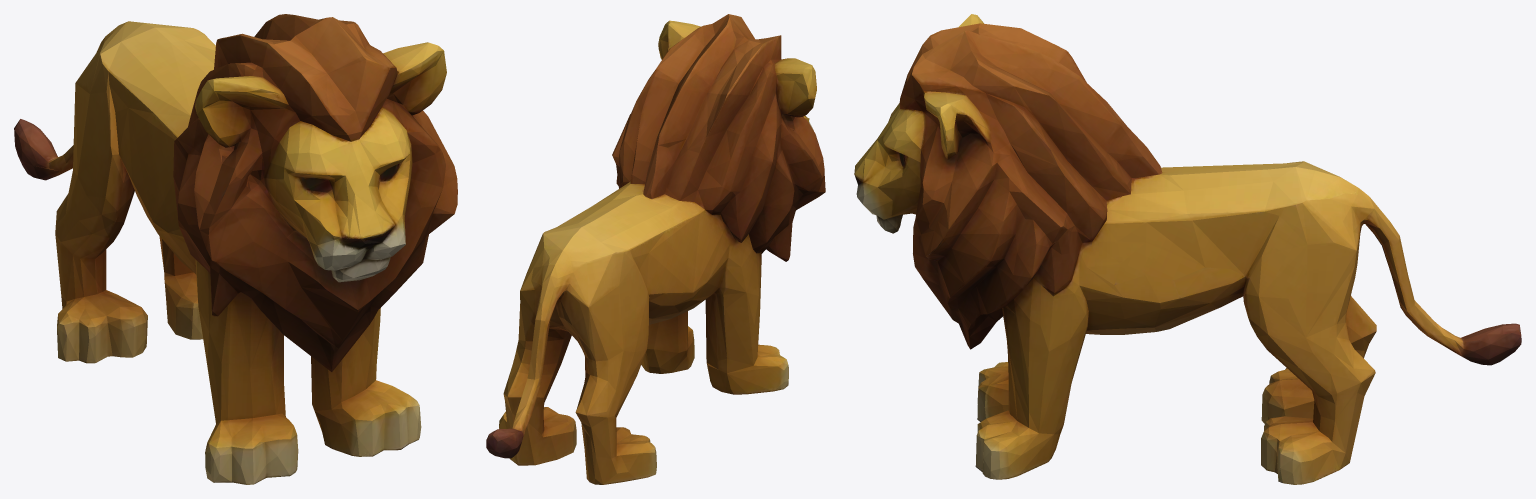
Rendered from lion.glb.
3 views of the same model, side by side, from view 1: azimuth 30°, elevation 25°; view 2: azimuth 150°, elevation 25°; view 3: azimuth 270°, elevation 25° (orthographic). The views are drawn at different scales.
Parts seen in each view (by area): view 1: world; view 2: world; view 3: world.
Part boxes in pixels (box(x1,y1,x2,y2)): world: box(14, 14, 457, 484); world: box(486, 14, 825, 484); world: box(854, 14, 1521, 484).
Bounding box in the file's own units: 0.3751 × 0.6685 × 0.9977.
Materials: 1 (1 with a texture image).
